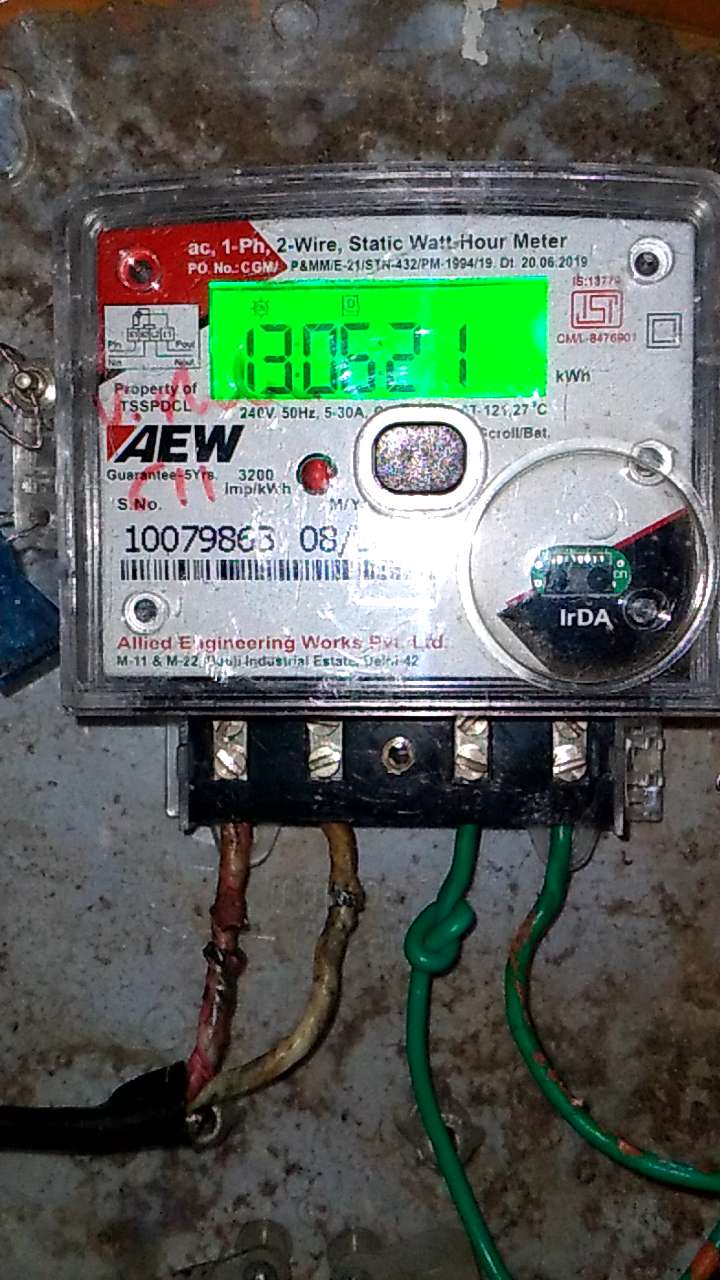meter_serial_number: (119, 521, 283, 557)
